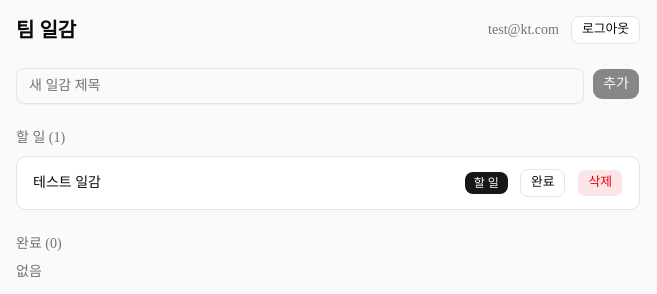
Test case: Home 페이지 › 제목 입력 후 추가 버튼이 활성화된다
Expected: the text "테스트 일감" is shown, [33,175,101,190]
Step 1. Type "새 일감" into the field with placeholder "새 일감 제목" → (300, 86), box [16,68,584,104]
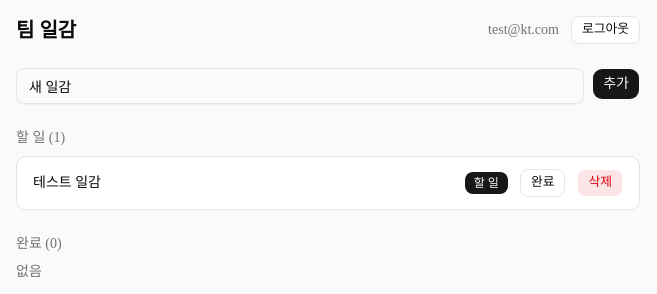
Result: the button "추가" is enabled at [592,68,640,100]
